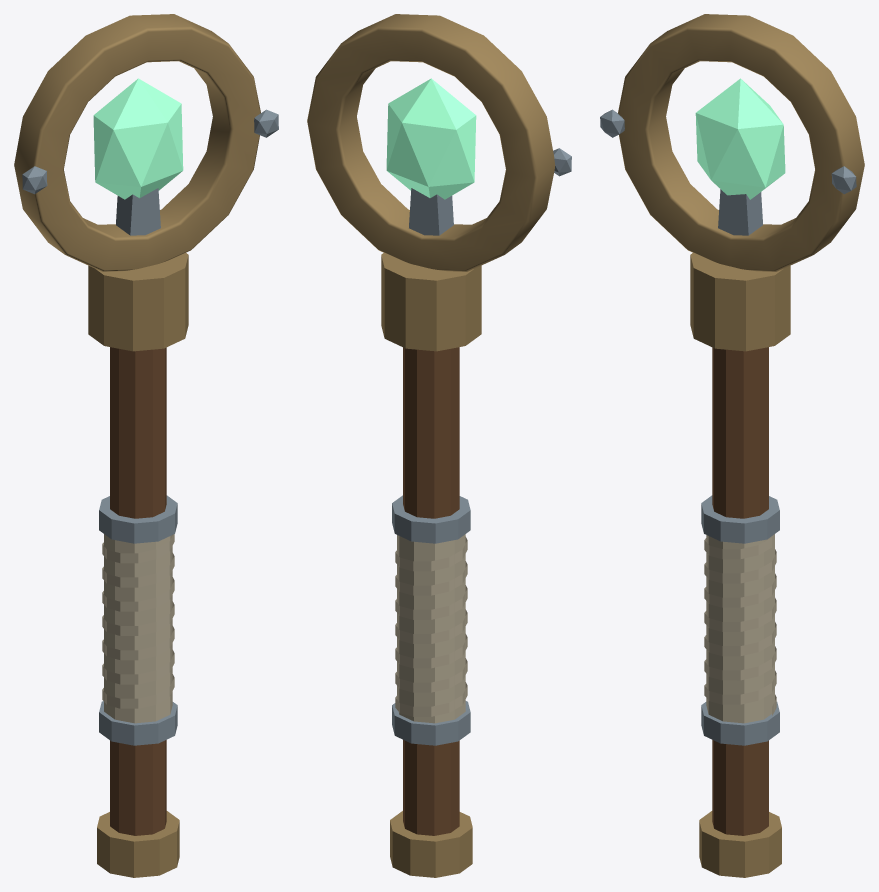
Rendered from Crownless_Acolyte_Scepter.glb.
3 views of the same model, side by side, from view 1: azimuth 30°, elevation 25°; view 2: azimuth 150°, elevation 25°; view 3: azimuth 330°, elevation 25° (orthographic).
Visible parts, largest first — view 1: Scepter | open restoration halo, Scepter | ash handle, Scepter | green restoration stone, Scepter | head socket, Scepter | linen grip, Scepter | linen binding, Scepter | butt cap, Scepter | upper ferrule, Scepter | lower ferrule, Scepter | stone mount, Scepter | ring rivet, Scepter | ring rivet.001; view 2: Scepter | open restoration halo, Scepter | ash handle, Scepter | green restoration stone, Scepter | head socket, Scepter | linen grip, Scepter | linen binding, Scepter | butt cap, Scepter | upper ferrule, Scepter | lower ferrule, Scepter | stone mount; view 3: Scepter | open restoration halo, Scepter | ash handle, Scepter | head socket, Scepter | green restoration stone, Scepter | linen grip, Scepter | linen binding, Scepter | butt cap, Scepter | upper ferrule, Scepter | lower ferrule, Scepter | stone mount, Scepter | ring rivet.001.
Part boxes in pixels (x1=…): Scepter | open restoration halo: x1=14, y1=14, x2=260, y2=271; Scepter | ash handle: x1=110, y1=347, x2=166, y2=835; Scepter | green restoration stone: x1=93, y1=78, x2=183, y2=199; Scepter | head socket: x1=88, y1=253, x2=188, y2=351; Scepter | linen grip: x1=104, y1=534, x2=172, y2=723; Scepter | linen binding: x1=102, y1=534, x2=174, y2=708; Scepter | butt cap: x1=97, y1=811, x2=179, y2=877; Scepter | upper ferrule: x1=99, y1=495, x2=177, y2=543; Scepter | lower ferrule: x1=99, y1=701, x2=177, y2=745; Scepter | stone mount: x1=116, y1=188, x2=160, y2=235; Scepter | ring rivet: x1=22, y1=166, x2=47, y2=194; Scepter | ring rivet.001: x1=254, y1=109, x2=278, y2=137; Scepter | open restoration halo: x1=307, y1=14, x2=555, y2=271; Scepter | ash handle: x1=403, y1=347, x2=459, y2=835; Scepter | green restoration stone: x1=386, y1=78, x2=476, y2=199; Scepter | head socket: x1=381, y1=253, x2=481, y2=351; Scepter | linen grip: x1=397, y1=534, x2=465, y2=723; Scepter | linen binding: x1=395, y1=537, x2=467, y2=716; Scepter | butt cap: x1=390, y1=811, x2=472, y2=877; Scepter | upper ferrule: x1=392, y1=495, x2=470, y2=543; Scepter | lower ferrule: x1=392, y1=701, x2=470, y2=745; Scepter | stone mount: x1=409, y1=188, x2=453, y2=235; Scepter | open restoration halo: x1=618, y1=14, x2=864, y2=271; Scepter | ash handle: x1=712, y1=347, x2=768, y2=835; Scepter | head socket: x1=690, y1=253, x2=790, y2=351; Scepter | green restoration stone: x1=695, y1=78, x2=785, y2=199; Scepter | linen grip: x1=706, y1=534, x2=774, y2=723; Scepter | linen binding: x1=704, y1=537, x2=776, y2=715; Scepter | butt cap: x1=699, y1=811, x2=781, y2=877; Scepter | upper ferrule: x1=701, y1=495, x2=779, y2=543; Scepter | lower ferrule: x1=701, y1=702, x2=779, y2=745; Scepter | stone mount: x1=718, y1=189, x2=762, y2=235; Scepter | ring rivet.001: x1=831, y1=166, x2=856, y2=194.
Bounding box in the file's own units: 1.33 × 4.15 × 0.46.
